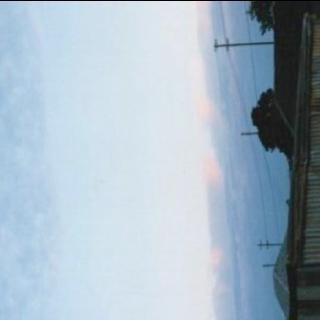Stratocumulus: (0, 0, 281, 320)
